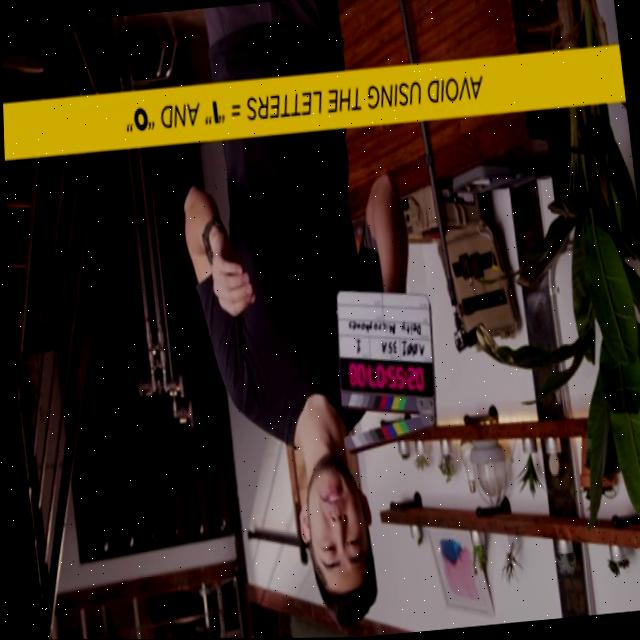Clapperboard: (329, 278, 448, 457)
